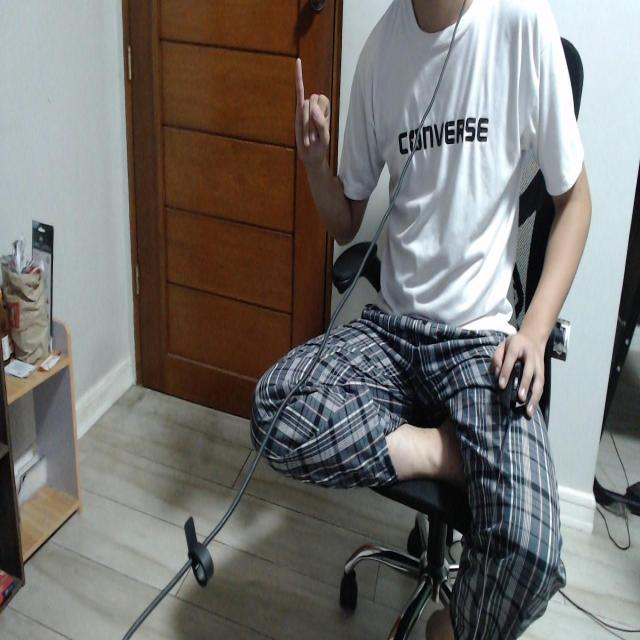I: (294, 56, 331, 163)
